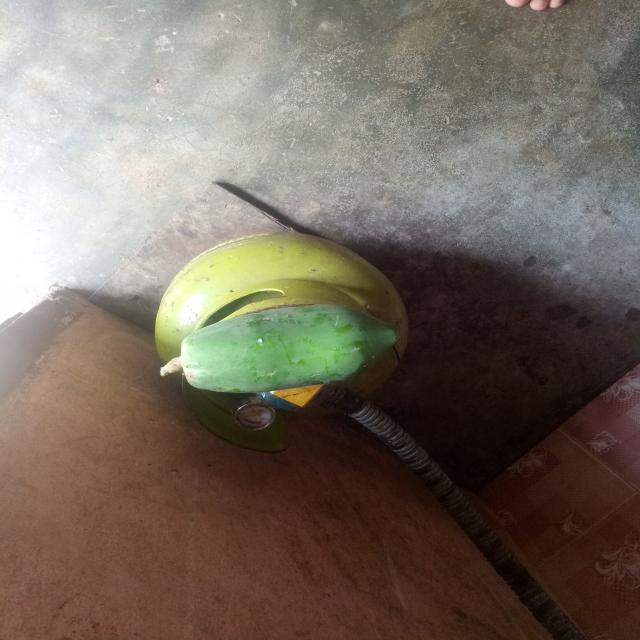Pepaya unrippen: (165, 311, 398, 388)
